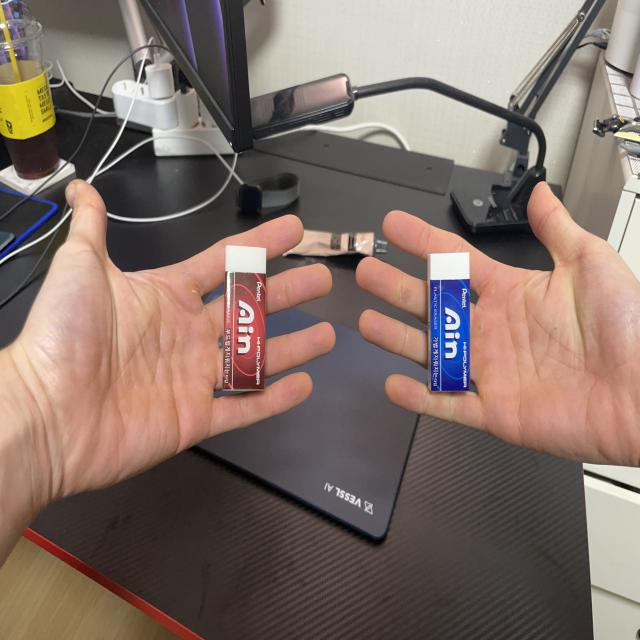blue: (413, 239, 477, 397)
red: (218, 232, 275, 399)
